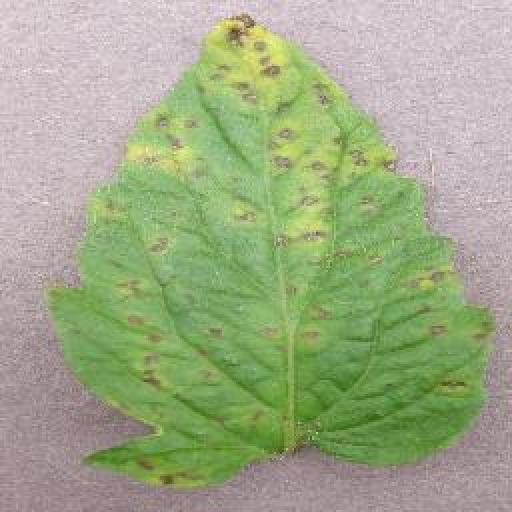disease_tomato: (53, 16, 496, 485)
